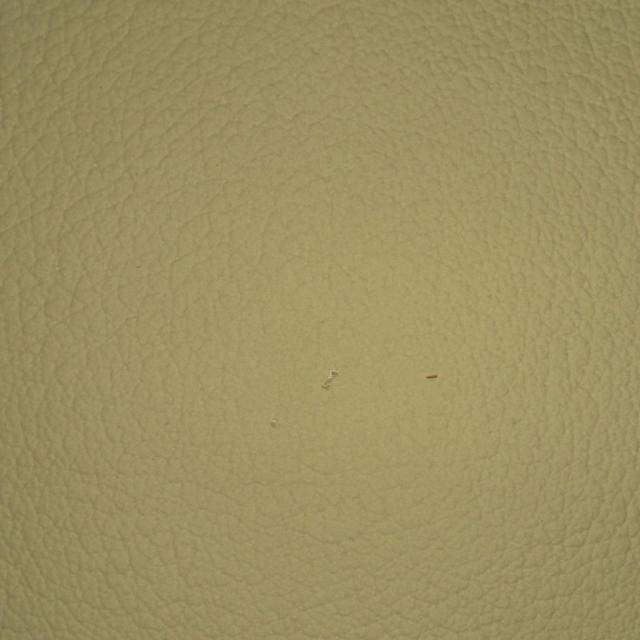Scratch: (283, 329, 494, 450)
